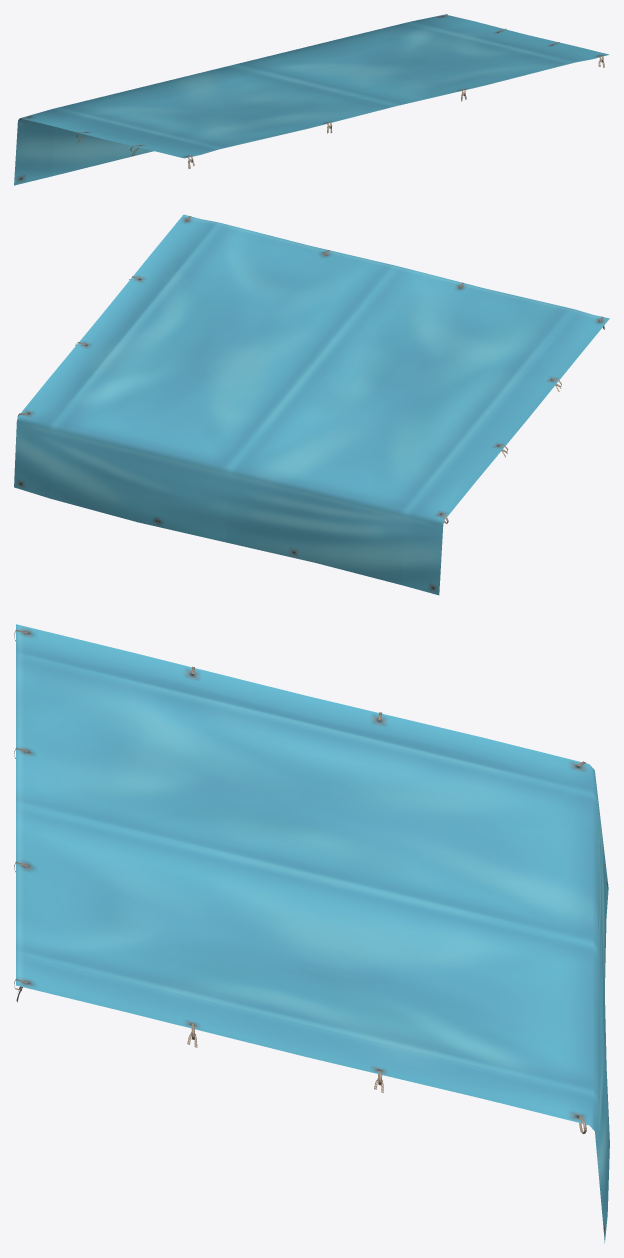
The model's file is jsf_Ceiling_s03_c03_t01.fbx.
3 renders of one model, top to bottom at view 1: azimuth 30°, elevation 25°; view 2: azimuth 150°, elevation 25°; view 3: azimuth 270°, elevation 25°, orthographic. The views are drawn at different scales.
Visible parts, largest first — view 1: jsf_Ceiling_s03_c03_t01; view 2: jsf_Ceiling_s03_c03_t01; view 3: jsf_Ceiling_s03_c03_t01.
Part boxes in pixels (<box>): jsf_Ceiling_s03_c03_t01: <box>14,14,609,185</box>; jsf_Ceiling_s03_c03_t01: <box>14,214,609,595</box>; jsf_Ceiling_s03_c03_t01: <box>14,624,609,1243</box>.
Bounding box in the file's own units: 315 × 106 × 216.
